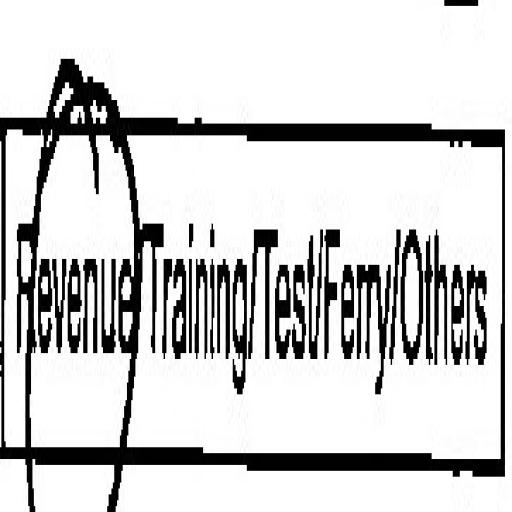check: (0, 12, 138, 512)
